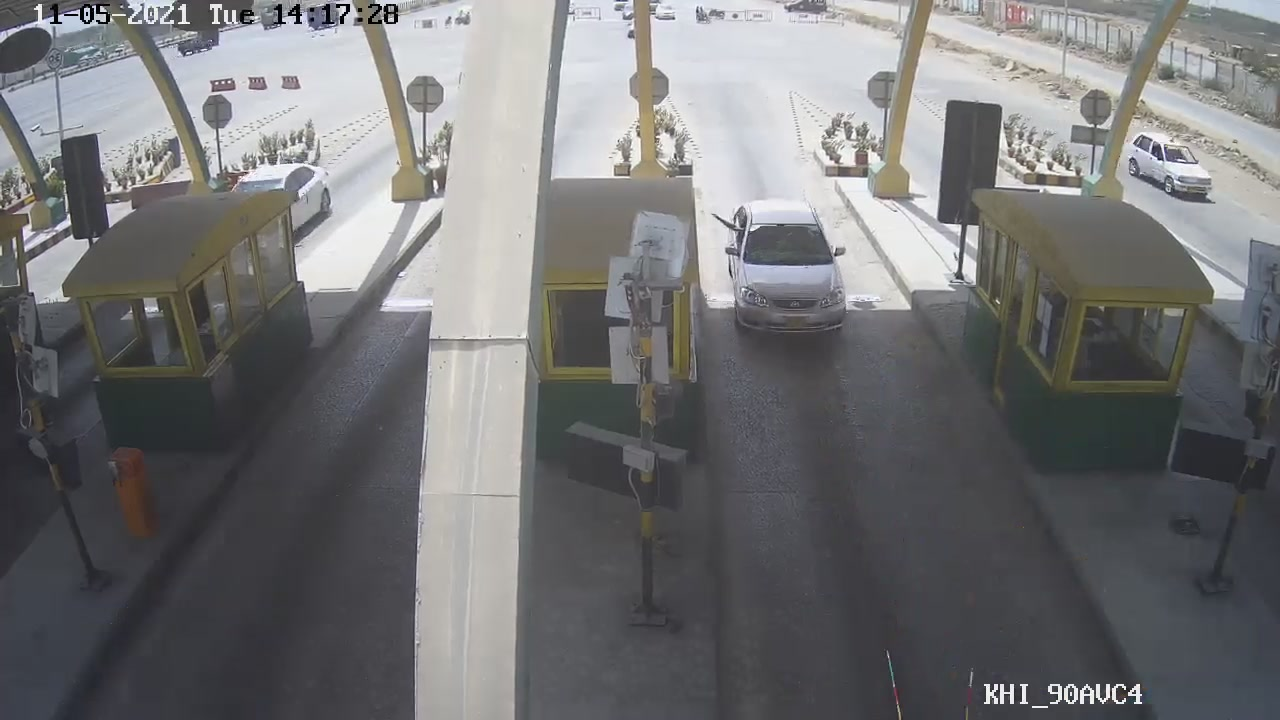F1: (721, 182, 859, 357)
